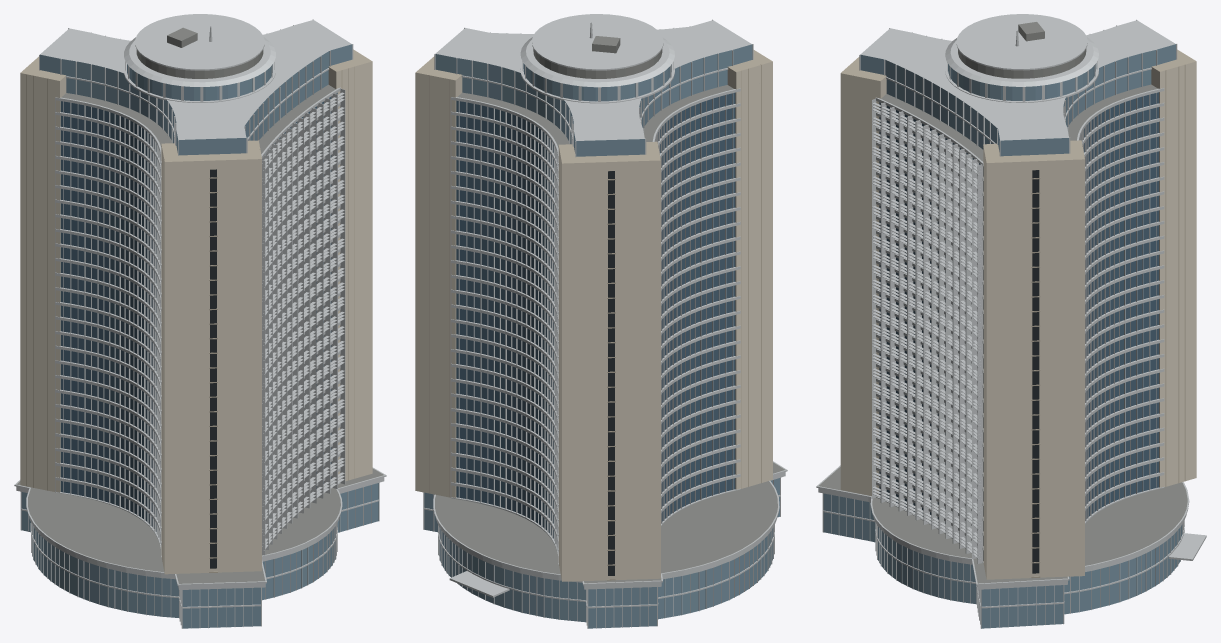
File: empress_state_building.glb
3 renders of one model, left to right at view 1: azimuth 30°, elevation 25°; view 2: azimuth 150°, elevation 25°; view 3: azimuth 270°, elevation 25°, orthographic.
Size of the model in its own units: 75.04 by 117 by 79.05.
